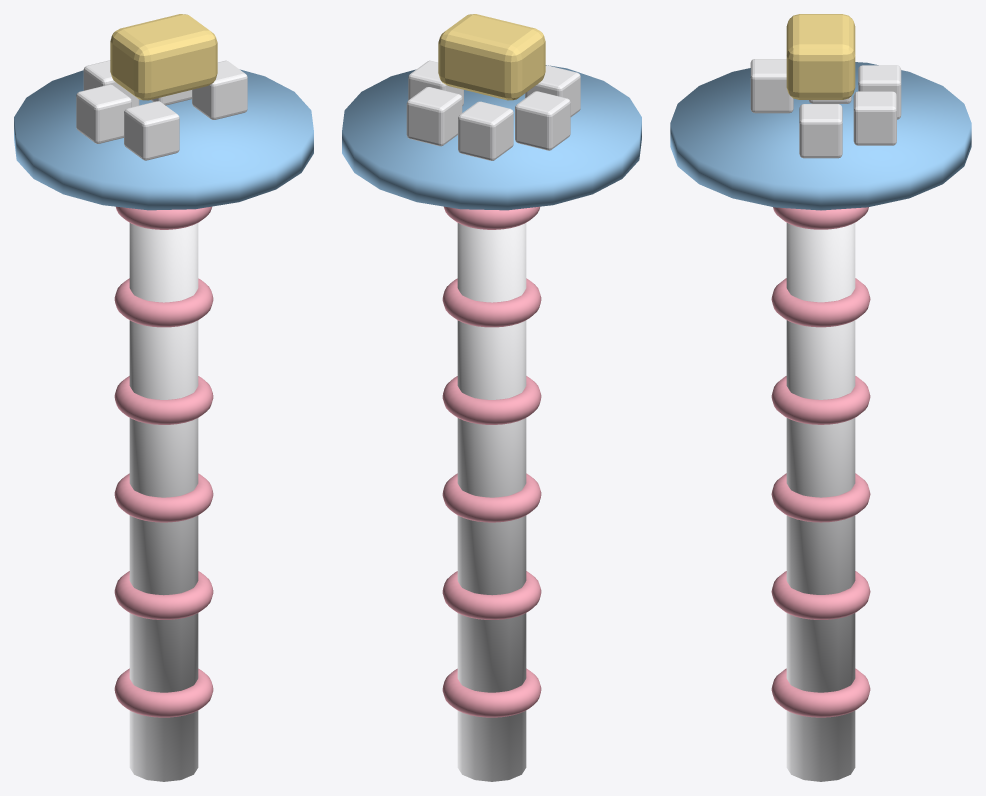
File: lure_post.glb
3 renders of one model, left to right at view 1: azimuth 30°, elevation 25°; view 2: azimuth 150°, elevation 25°; view 3: azimuth 270°, elevation 25°, orthographic.
Visible parts, largest first — view 1: lure_post; view 2: lure_post; view 3: lure_post.
Boxes of the visible parts, <box> form: lure_post: <box>14,14,313,781</box>; lure_post: <box>342,14,641,781</box>; lure_post: <box>670,14,971,781</box>.
Size of the model in its own units: 0.7 by 1.89 by 0.7.
